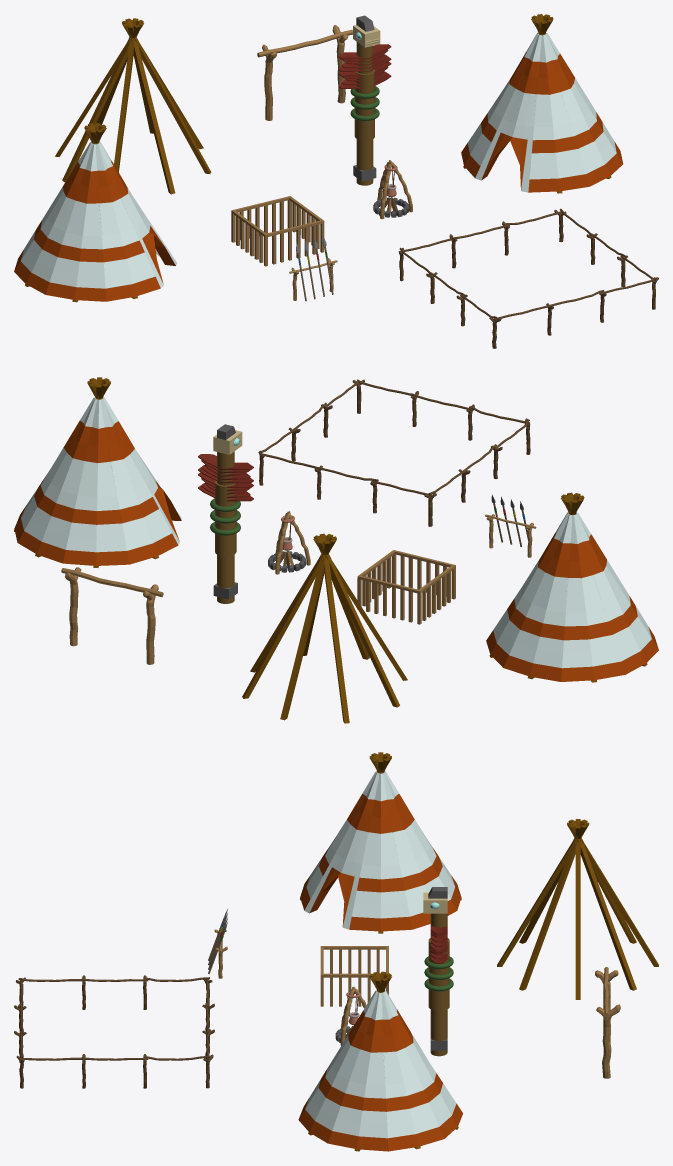
Rendered from Indianerdorf.fbx.
The picture shows the model from 3 angles, top to bottom: view 1: azimuth 30°, elevation 25°; view 2: azimuth 150°, elevation 25°; view 3: azimuth 270°, elevation 25°; orthographic projection. The views are drawn at different scales.
Visible parts, largest first — view 1: Cube.001, Cube.002, Cube.003, Cube.008, Cube.007, Cube.010, Cube.006, Torus, Cube.009; view 2: Cube.001, Cube.002, Cube.003, Cube.008, Cube.007, Cube.010, Cube.006, Torus, Cube.009; view 3: Cube.002, Cube.001, Cube.003, Cube.008, Cube.010, Cube.007, Cube.006, Torus, Cube.009.
Boxes of the visible parts, bbox=[...] form: Cube.001: bbox=[14, 123, 176, 302]; Cube.002: bbox=[461, 14, 623, 193]; Cube.003: bbox=[55, 18, 211, 194]; Cube.008: bbox=[338, 15, 391, 185]; Cube.007: bbox=[231, 196, 324, 266]; Cube.010: bbox=[398, 208, 658, 348]; Cube.006: bbox=[257, 25, 352, 120]; Torus: bbox=[373, 160, 412, 219]; Cube.009: bbox=[289, 236, 337, 301]; Cube.001: bbox=[486, 492, 658, 682]; Cube.002: bbox=[14, 377, 181, 567]; Cube.003: bbox=[242, 533, 407, 723]; Cube.008: bbox=[198, 424, 253, 603]; Cube.007: bbox=[357, 550, 455, 624]; Cube.010: bbox=[258, 379, 530, 526]; Cube.006: bbox=[61, 567, 163, 664]; Torus: bbox=[268, 511, 310, 574]; Cube.009: bbox=[485, 494, 536, 557]; Cube.002: bbox=[298, 971, 462, 1151]; Cube.001: bbox=[300, 752, 461, 933]; Cube.003: bbox=[497, 819, 658, 999]; Cube.008: bbox=[423, 887, 453, 1056]; Cube.010: bbox=[14, 975, 214, 1088]; Cube.007: bbox=[320, 946, 388, 1006]; Cube.006: bbox=[595, 967, 620, 1078]; Torus: bbox=[335, 986, 366, 1045]; Cube.009: bbox=[208, 909, 227, 978].
Bounding box in the file's own units: 813 × 219 × 769.
